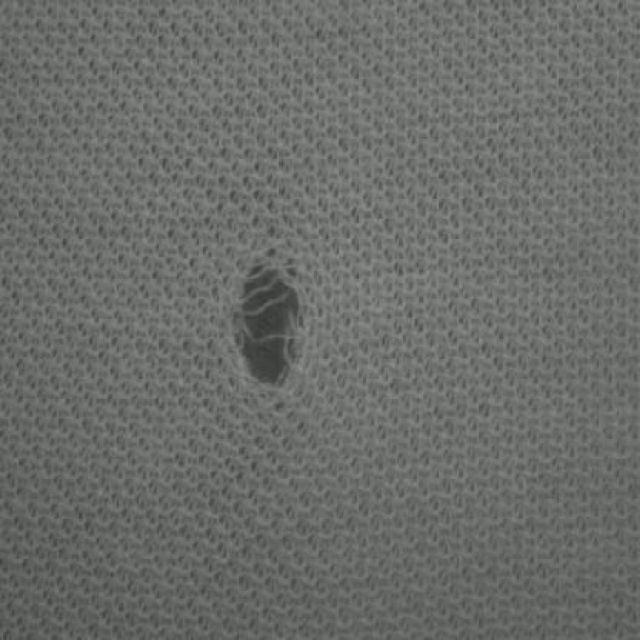Hole: (231, 265, 302, 389)
